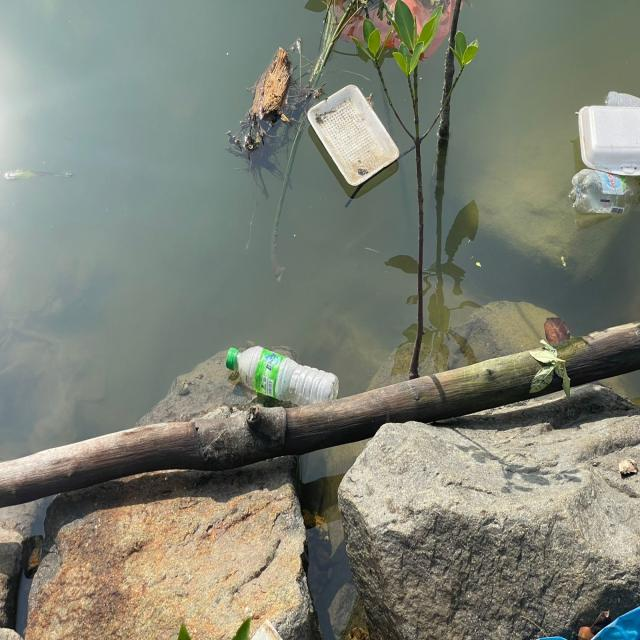Botol Plastik: (215, 329, 349, 404), (563, 160, 640, 228)
Bungkus Makanan: (302, 82, 403, 203), (575, 87, 640, 176)
